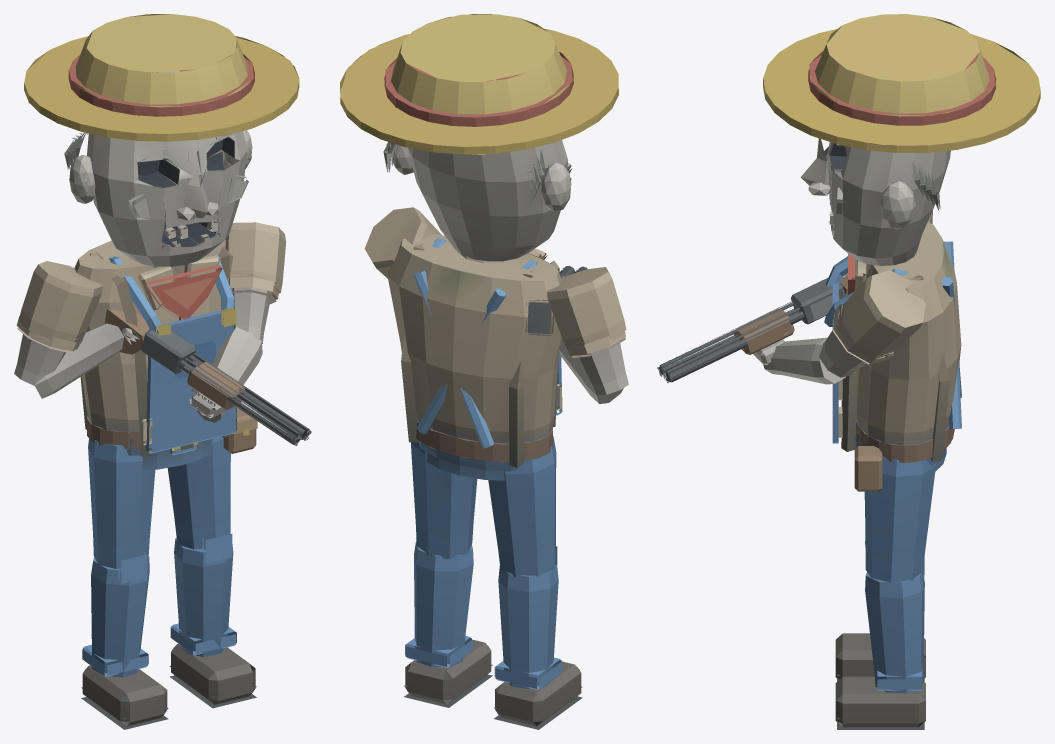
The model's file is GrandfatherFarmer.glb.
The picture shows the model from 3 angles, left to right: view 1: azimuth 30°, elevation 25°; view 2: azimuth 150°, elevation 25°; view 3: azimuth 270°, elevation 25°; orthographic projection.
Parts seen in each view (by area): view 1: Head, Body, LegR, LegL, ArmR, ArmL; view 2: Head, Body, LegR, LegL, ArmR, ArmL; view 3: Head, Body, LegL, ArmL, LegR.
Boxes of the visible parts, box(x1,y1,x2,y2) form: Head: box(24, 14, 299, 266); Body: box(74, 236, 311, 470); LegR: box(81, 439, 168, 729); LegL: box(167, 437, 256, 708); ArmR: box(14, 261, 141, 398); ArmL: box(189, 222, 286, 422); Head: box(340, 14, 618, 261); Body: box(387, 235, 587, 480); LegR: box(488, 436, 582, 729); LegL: box(404, 442, 492, 707); ArmR: box(546, 267, 628, 403); ArmL: box(364, 207, 441, 278); Head: box(763, 14, 1040, 265); Body: box(657, 221, 961, 491); LegL: box(835, 456, 935, 729); ArmL: box(753, 270, 925, 384); LegR: box(835, 535, 925, 681).
Size of the model in its own units: 2.74 by 6.45 by 3.43.
